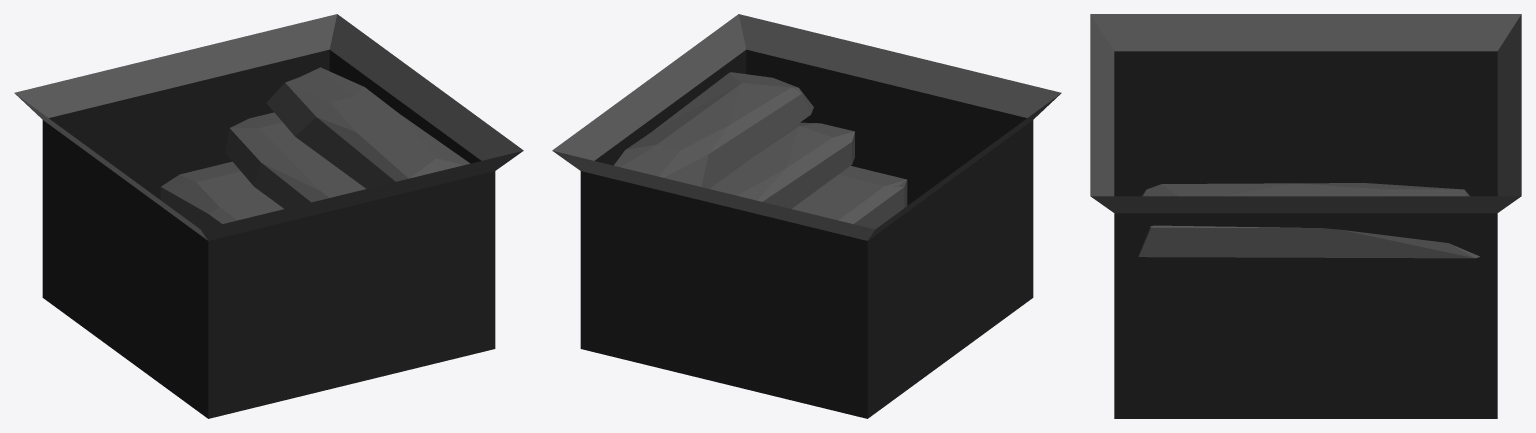
Rendered from Stairs_down_C.fbx.
The picture shows the model from 3 angles, left to right: view 1: azimuth 30°, elevation 25°; view 2: azimuth 150°, elevation 25°; view 3: azimuth 270°, elevation 25°; orthographic projection. The views are drawn at different scales.
Visible parts, largest first — view 1: Stairs_down_C; view 2: Stairs_down_C; view 3: Stairs_down_C.
Part boxes in pixels (x1,y1,x2,y2): Stairs_down_C: [14, 14, 523, 418]; Stairs_down_C: [552, 14, 1061, 418]; Stairs_down_C: [1090, 14, 1521, 418].
Bounding box in the file's own units: 100 × 59.57 × 100.
